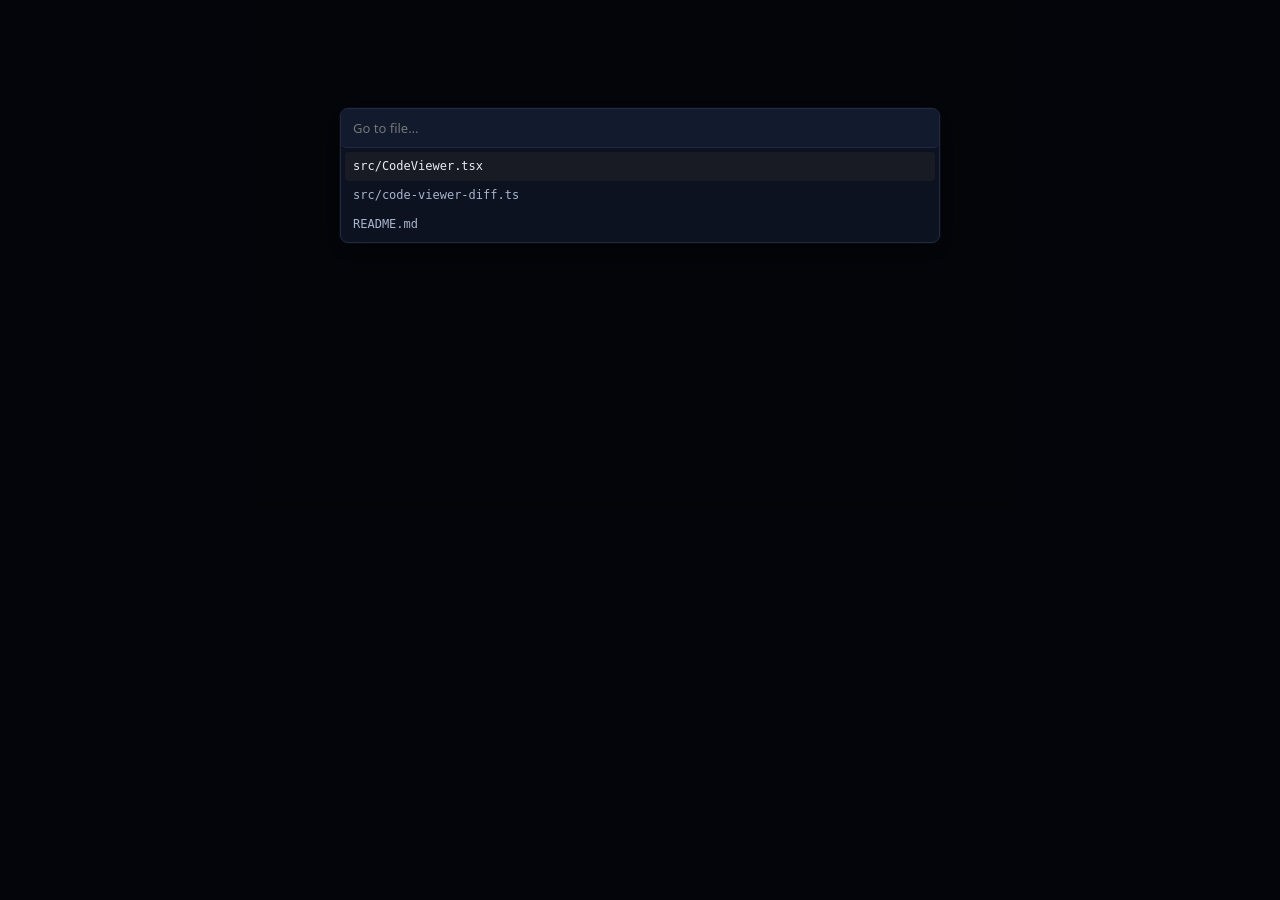
Scenario: QuickOpen › lists files from files:list and filters by query
Expected: the option "README.md" is shown, [353, 217, 418, 231]
Type "codeview" into the field labelled "Go to file" at (640, 128), box [341, 109, 939, 148]
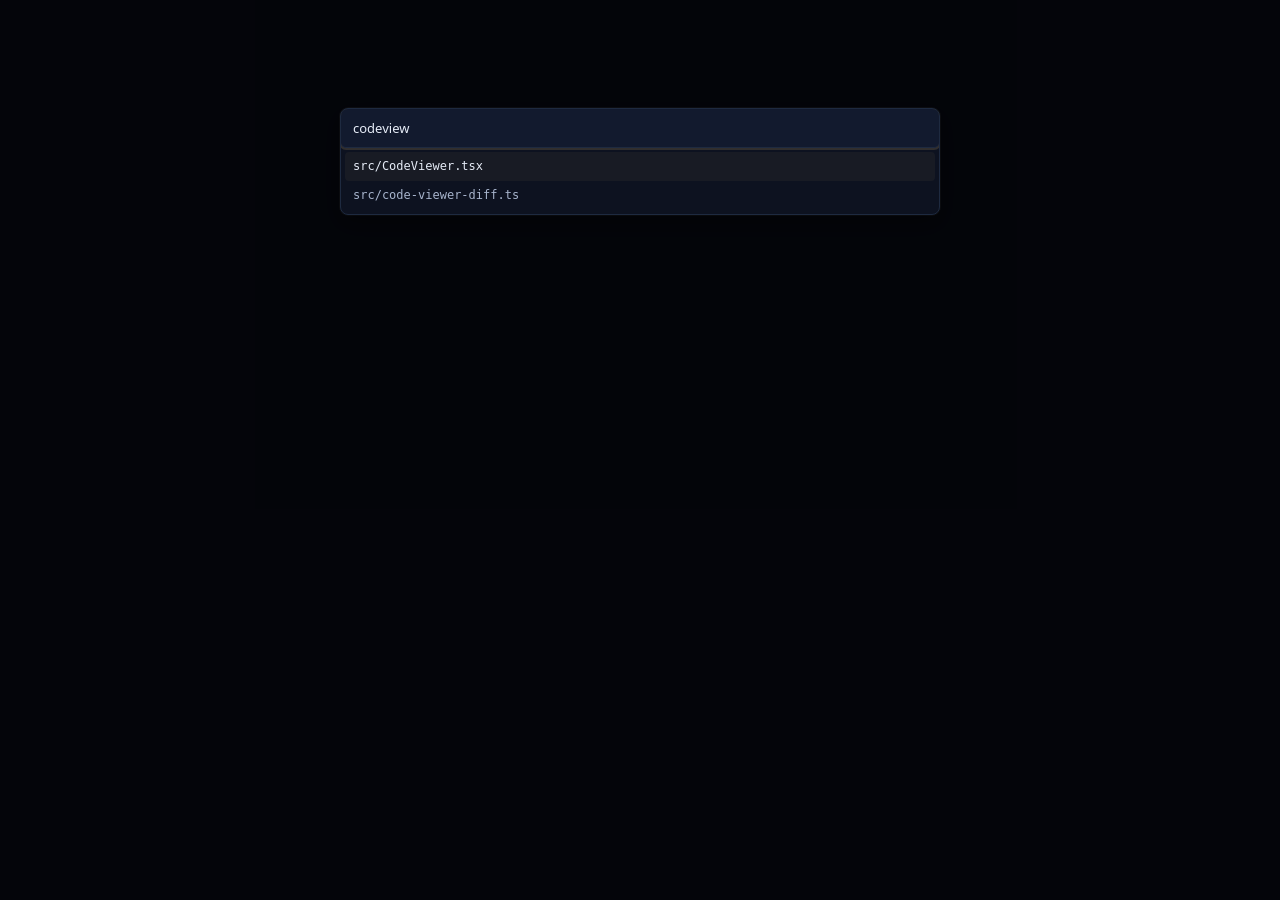
Expected: the option "src/CodeViewer.tsx" is shown, [345, 152, 935, 181]
Expected: the option "README.md" is gone
